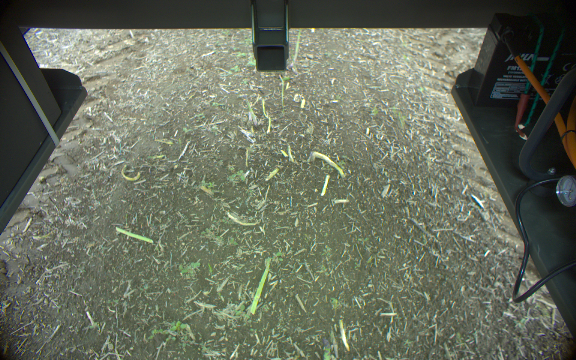aspa: (249, 254, 273, 318), (114, 223, 155, 246), (289, 27, 306, 68)
